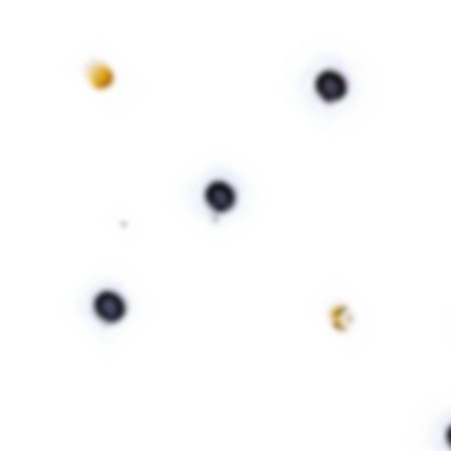cancer: (289, 50, 366, 122), (72, 279, 147, 343), (181, 160, 253, 225)
normal: (63, 42, 132, 103), (314, 287, 371, 344)
